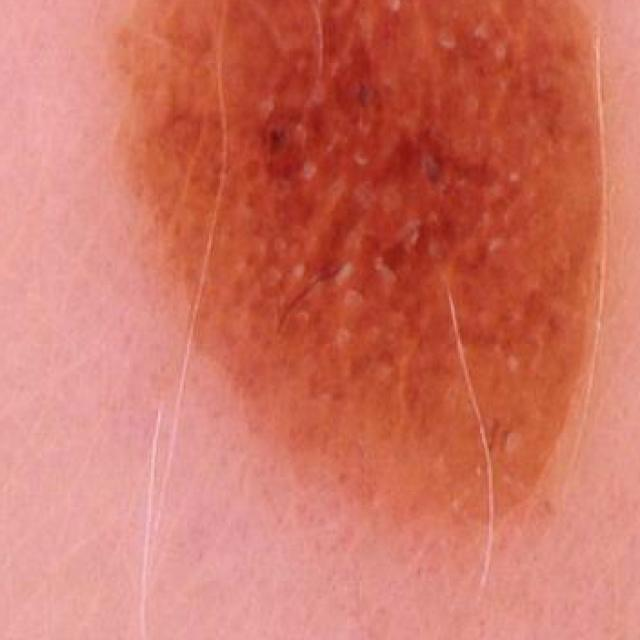NV: (74, 0, 640, 560)
